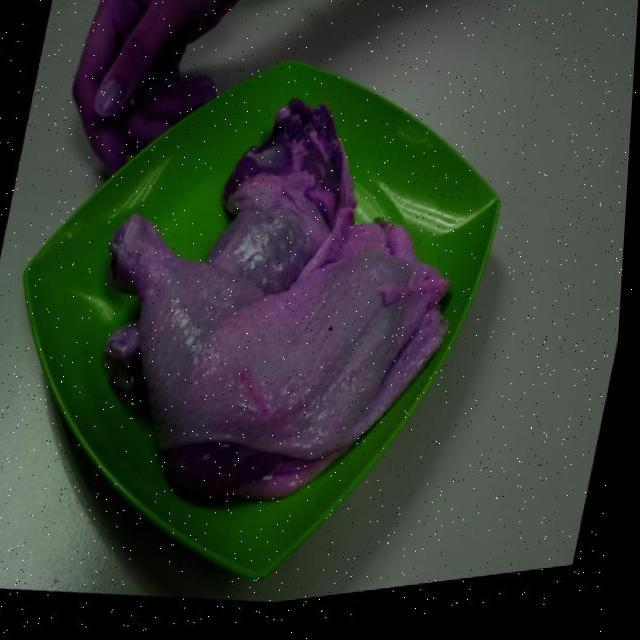quater: (110, 211, 457, 479), (86, 106, 368, 382)
